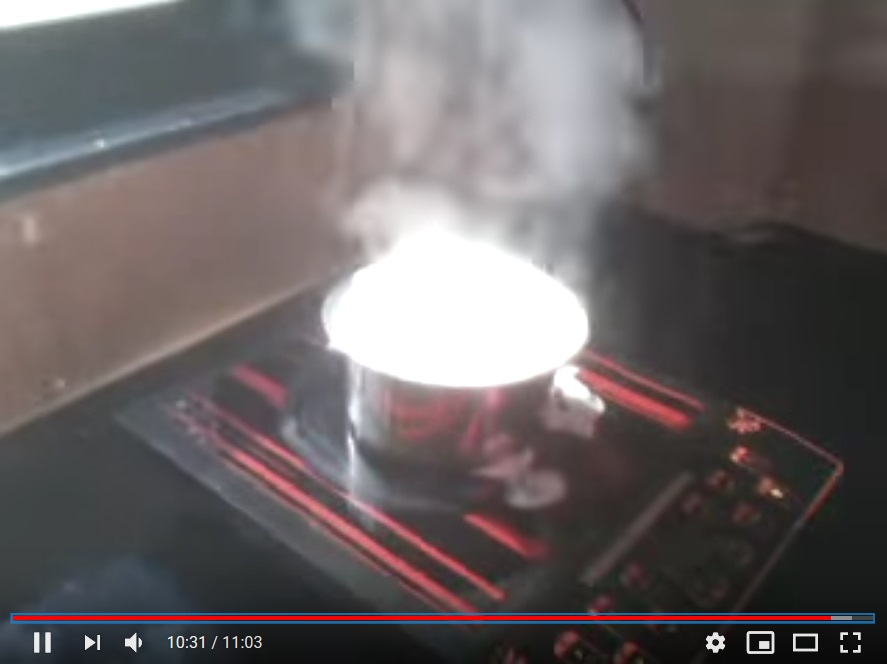Boiled: (325, 220, 566, 471)
